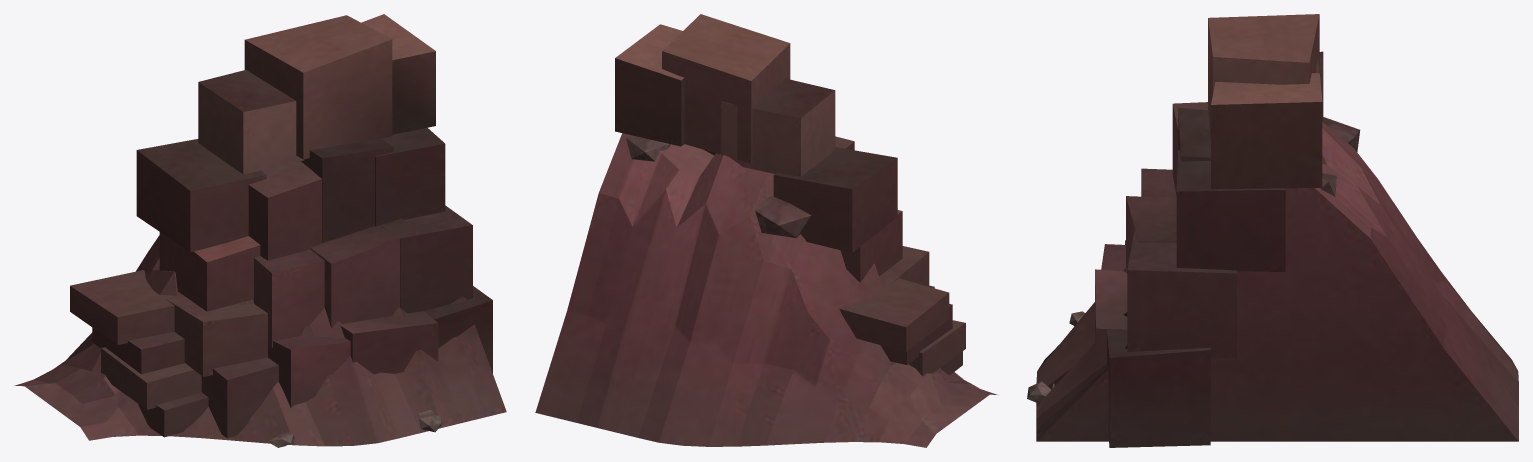
File: cliff-fulgora-entrance.glb
3 views of the same model, side by side, from view 1: azimuth 30°, elevation 25°; view 2: azimuth 150°, elevation 25°; view 3: azimuth 270°, elevation 25° (orthographic). The views are drawn at different scales.
Parts seen in each view (by area): view 1: cliff-fulgora-entrance; view 2: cliff-fulgora-entrance; view 3: cliff-fulgora-entrance.
Boxes of the visible parts, left/top/right/bottom form: cliff-fulgora-entrance: left=14, top=14, right=506, bottom=447; cliff-fulgora-entrance: left=535, top=14, right=998, bottom=447; cliff-fulgora-entrance: left=1027, top=14, right=1518, bottom=447.
Size of the model in its own units: 3.16 by 2.71 by 3.31.
2 materials, 2 textured.
